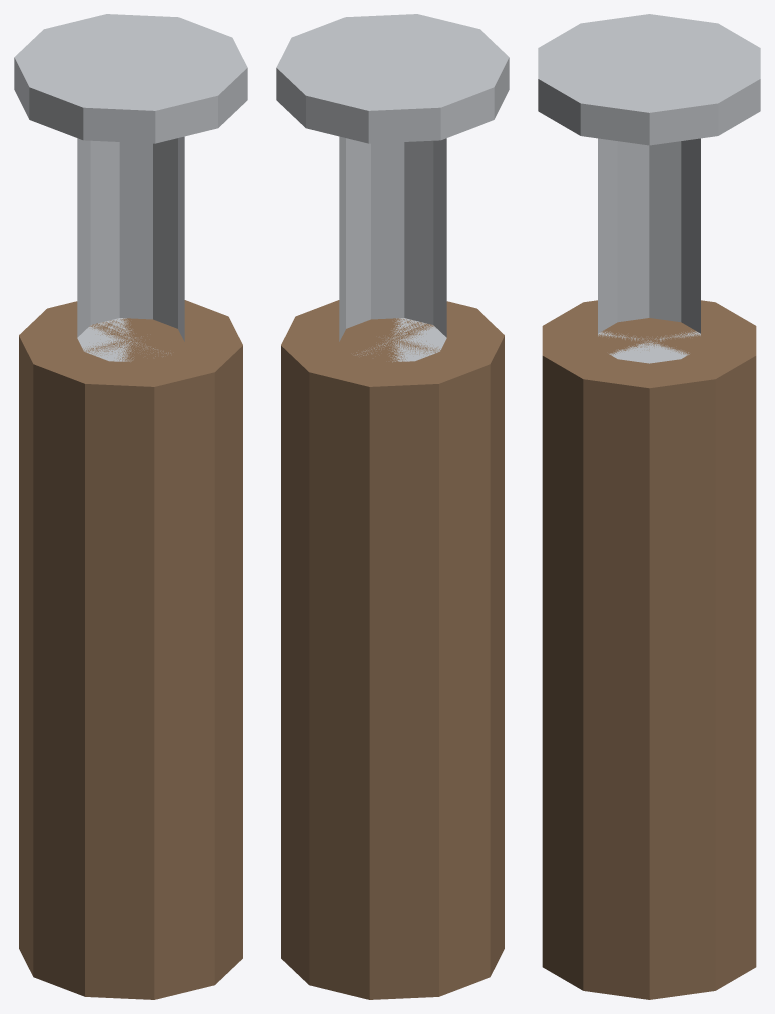
File: bank-vault-heist-kit-glass-cutter-d190db02__25122.glb
The picture shows the model from 3 angles, left to right: view 1: azimuth 30°, elevation 25°; view 2: azimuth 150°, elevation 25°; view 3: azimuth 270°, elevation 25°; orthographic projection.
Visible parts, largest first — view 1: glass-cutter; view 2: glass-cutter; view 3: glass-cutter.
Boxes of the visible parts, box(x1,y1,x2,y2) form: glass-cutter: box(14, 14, 247, 999); glass-cutter: box(276, 14, 509, 999); glass-cutter: box(538, 14, 760, 999).
Size of the model in its own units: 0.052 by 0.218 by 0.0495.
